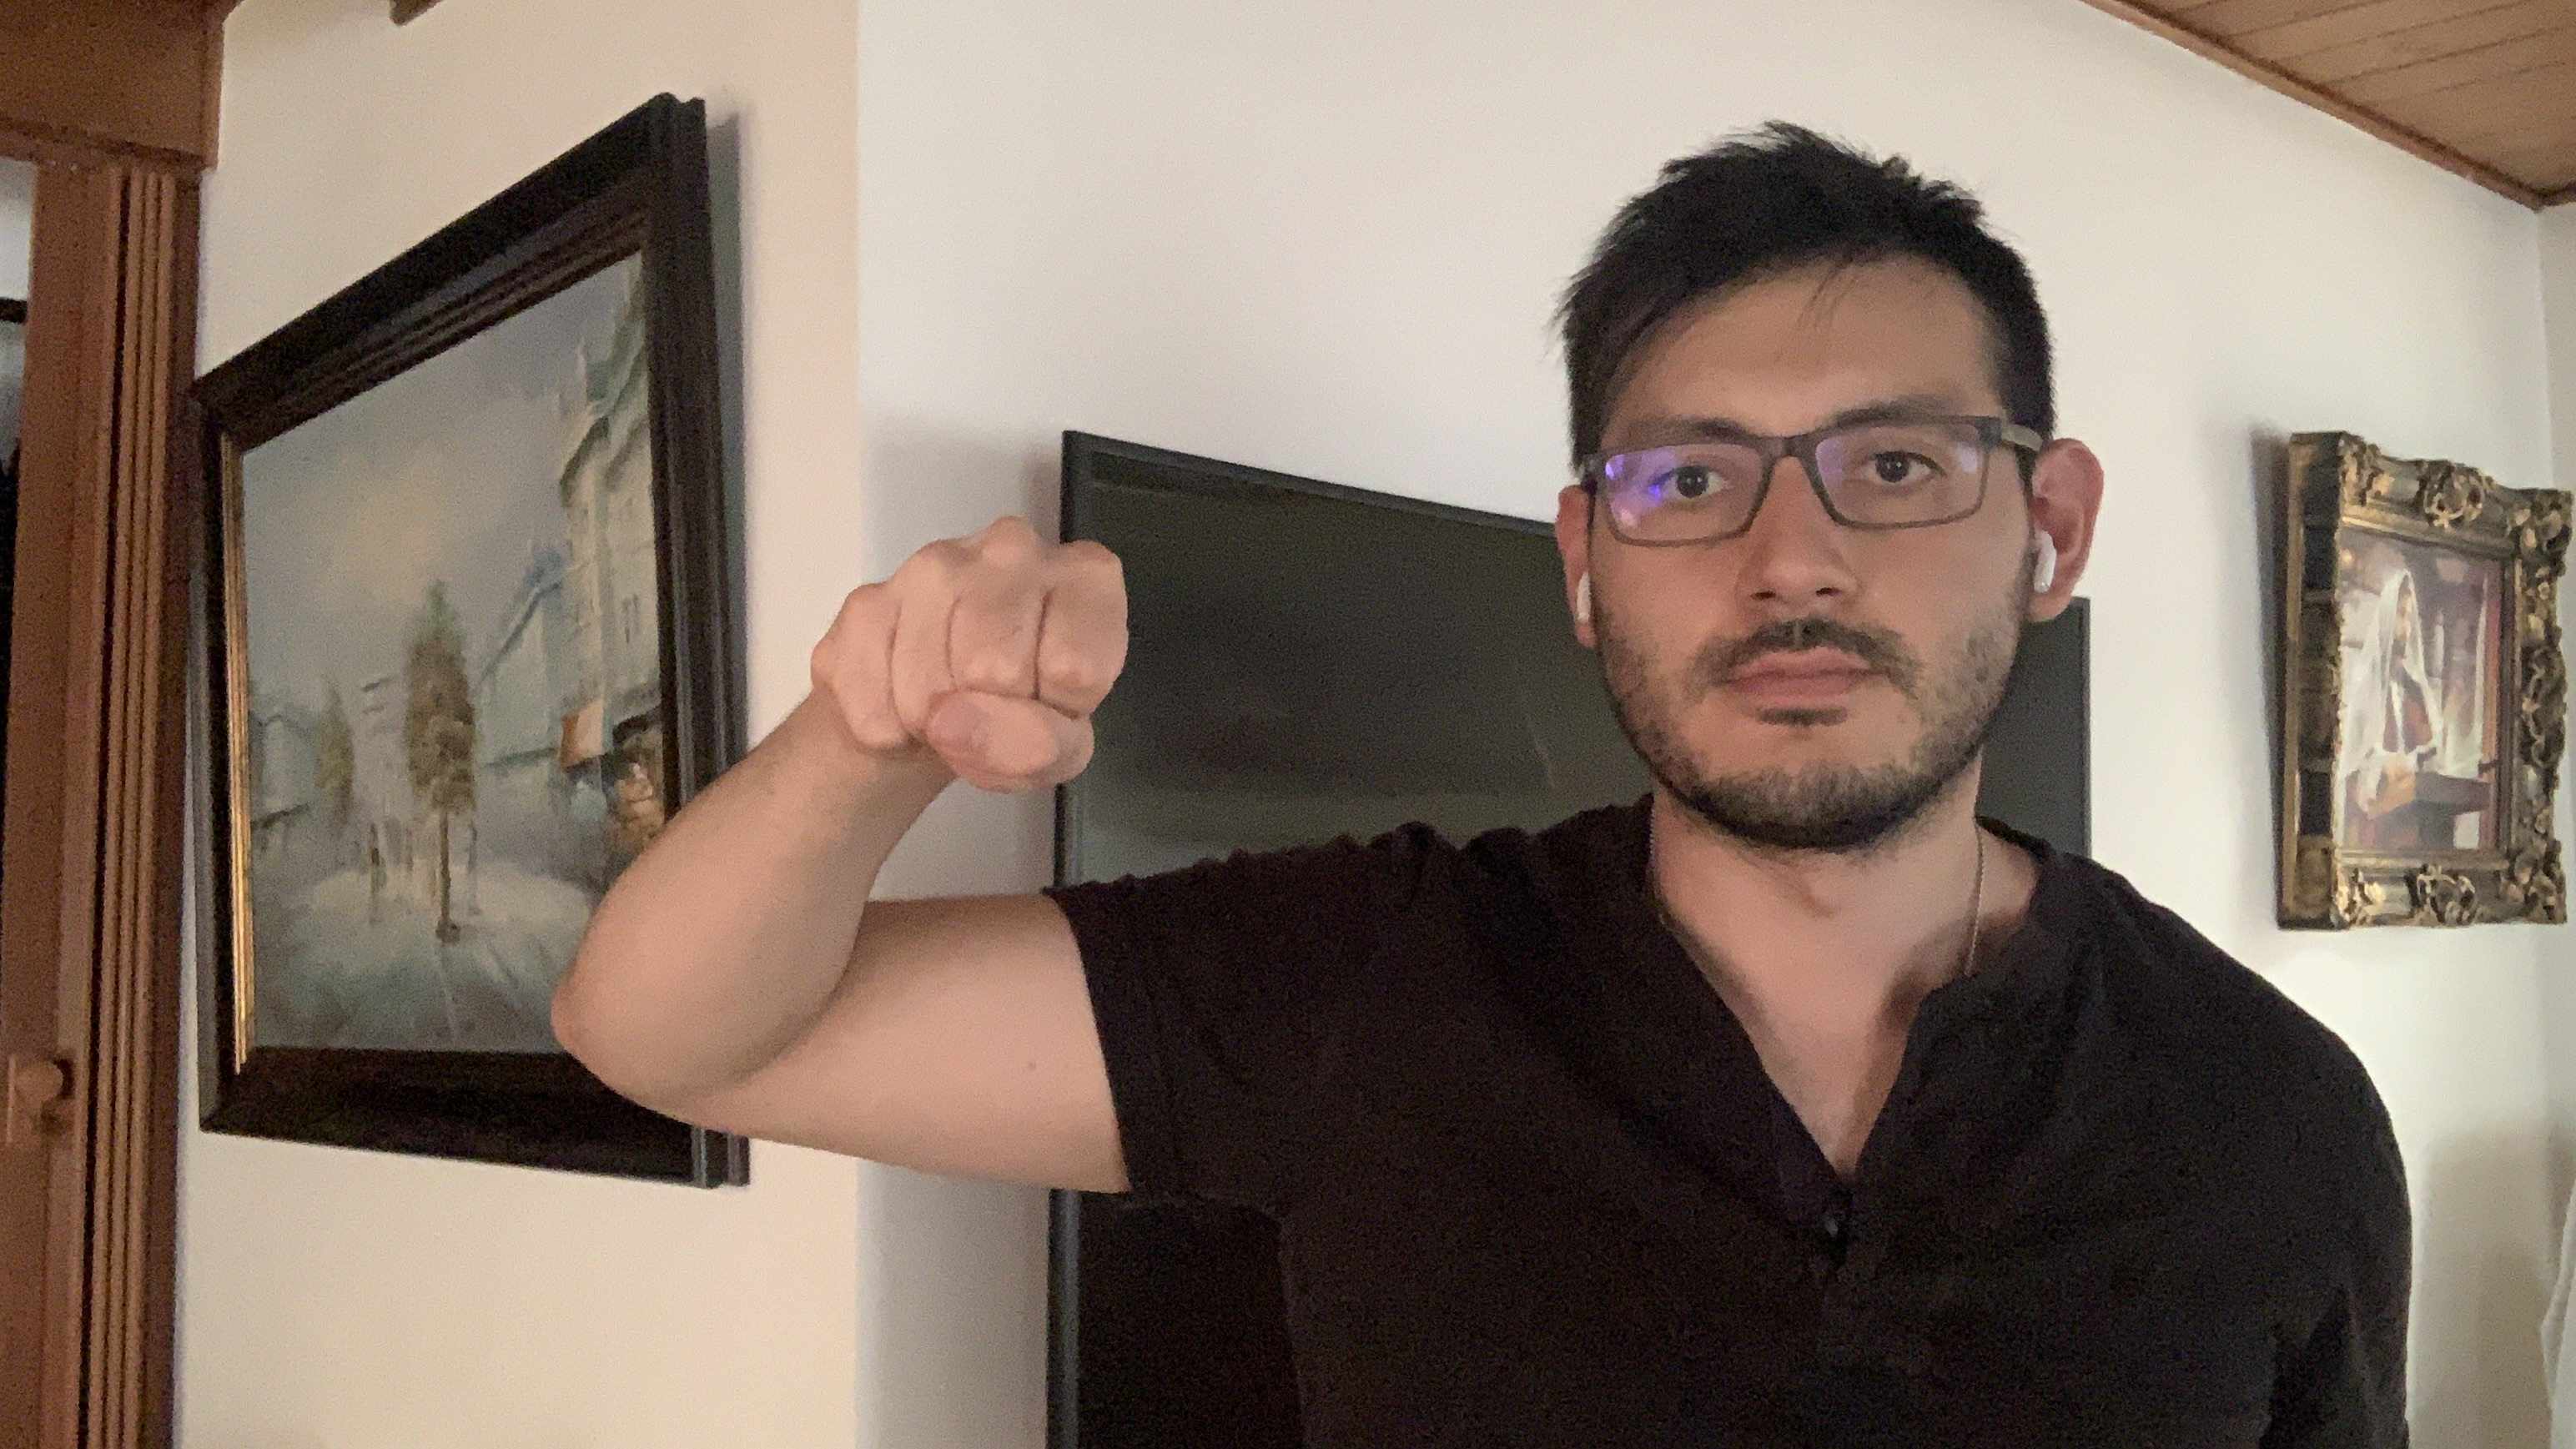Yes: (803, 513, 1146, 812)
